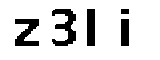3: (51, 4, 76, 51)
i: (116, 5, 136, 50)
l: (84, 7, 105, 52)
z: (9, 14, 44, 48)
